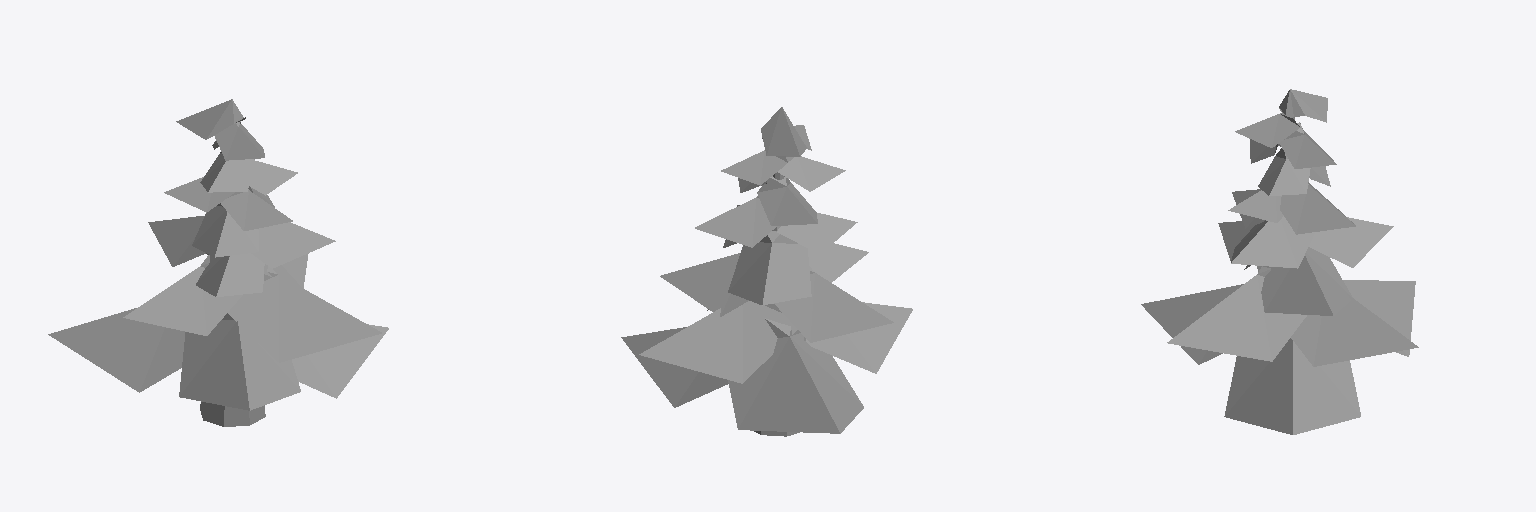
File: TreeLeaf.obj
The picture shows the model from 3 angles: view 1: azimuth 30°, elevation 25°; view 2: azimuth 150°, elevation 25°; view 3: azimuth 270°, elevation 25°; orthographic projection.
Visible parts, largest first — view 1: objMesh; view 2: objMesh; view 3: objMesh.
Boxes of the visible parts, box(x1,y1,x2,y2) form: objMesh: box(48, 99, 388, 426); objMesh: box(621, 107, 912, 436); objMesh: box(1141, 89, 1418, 434).
Bounding box in the file's own units: 0.6856 × 0.7368 × 0.5899.